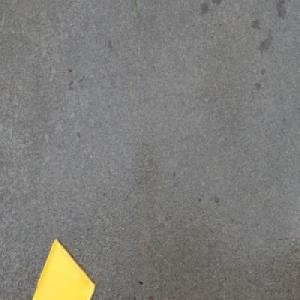PlasticPart: (31, 235, 97, 300)
